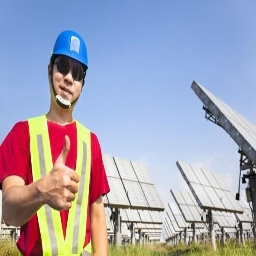person: (0, 32, 108, 256)
